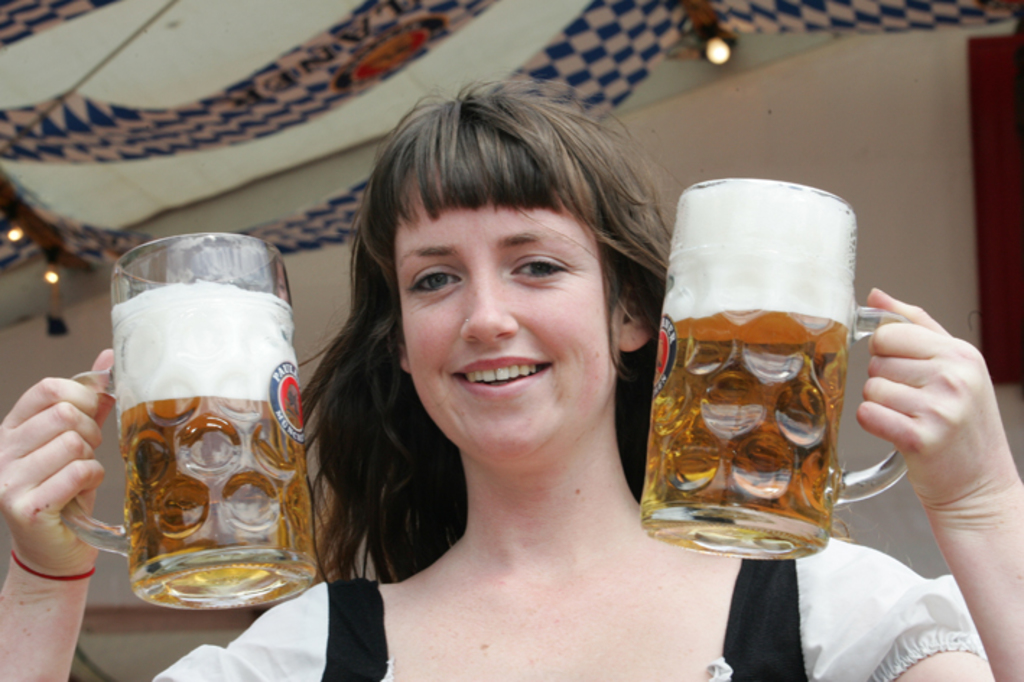Beer: (641, 171, 855, 556), (109, 278, 314, 616)
